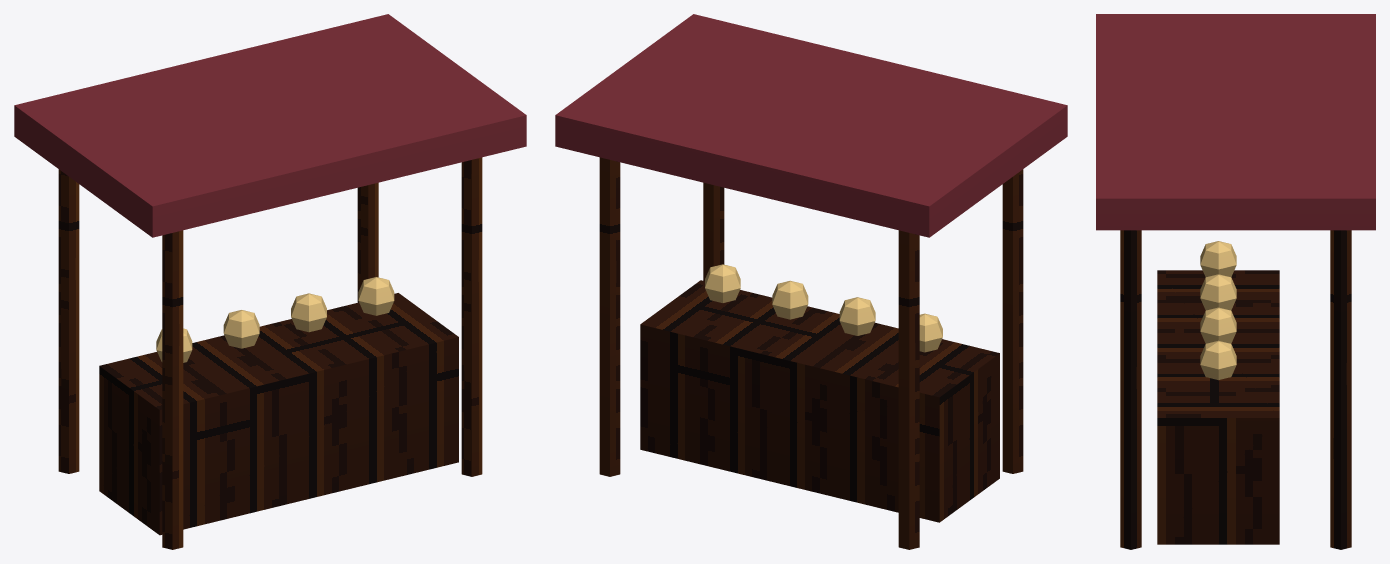
File: market_stall.glb
3 views of the same model, side by side, from view 1: azimuth 30°, elevation 25°; view 2: azimuth 150°, elevation 25°; view 3: azimuth 270°, elevation 25° (orthographic).
Visible parts, largest first — view 1: market_stall; view 2: market_stall; view 3: market_stall.
Part boxes in pixels (x1=…): market_stall: x1=14, y1=14, x2=526, y2=549; market_stall: x1=555, y1=14, x2=1067, y2=549; market_stall: x1=1096, y1=14, x2=1375, y2=549.
Bounding box in the file's own units: 2.5 × 2.3 × 1.6.
Materials: 3 (1 with a texture image).
